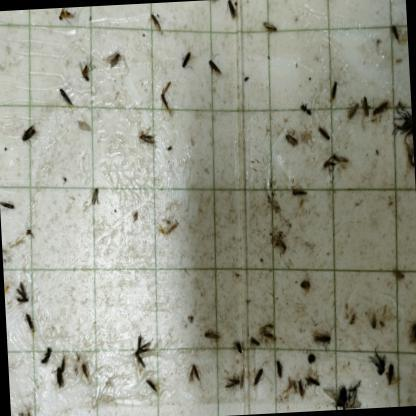prays_oleae: (132, 123, 160, 155), (128, 334, 152, 370), (52, 357, 71, 396), (16, 123, 42, 147), (218, 368, 240, 396), (262, 321, 282, 350), (282, 124, 302, 152), (316, 118, 335, 146), (86, 186, 106, 212), (160, 84, 174, 121), (288, 181, 310, 204), (12, 278, 30, 306), (250, 364, 268, 392), (312, 324, 330, 352), (302, 364, 320, 392), (148, 6, 162, 40), (58, 84, 74, 113), (229, 327, 243, 360), (185, 358, 200, 388), (204, 326, 224, 348), (260, 16, 280, 38), (332, 144, 352, 166), (143, 374, 161, 398), (318, 152, 336, 176), (346, 93, 360, 122), (0, 196, 20, 215), (40, 341, 54, 368), (371, 100, 389, 121), (23, 312, 38, 336), (104, 52, 122, 72), (294, 372, 306, 402), (206, 56, 222, 78), (246, 330, 261, 352), (178, 48, 192, 70), (224, 0, 238, 22), (299, 276, 312, 298), (328, 81, 340, 102), (360, 92, 368, 121), (273, 356, 283, 378)
